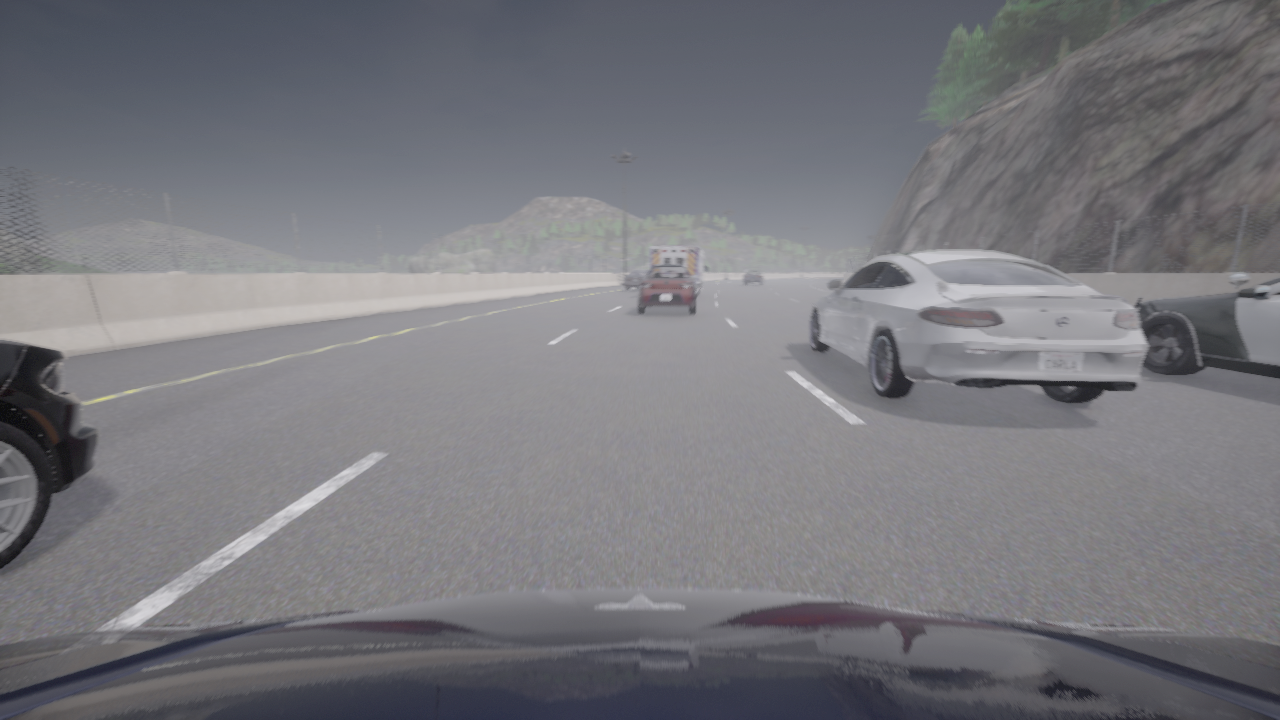cyclist: (0, 588, 1279, 719), (809, 249, 1147, 403), (1133, 272, 1279, 378), (637, 264, 697, 314), (650, 246, 707, 296), (623, 270, 647, 290), (743, 270, 764, 285)
